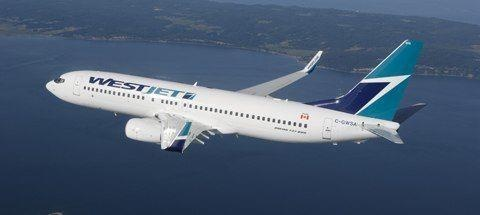airplane: (34, 36, 427, 147)
